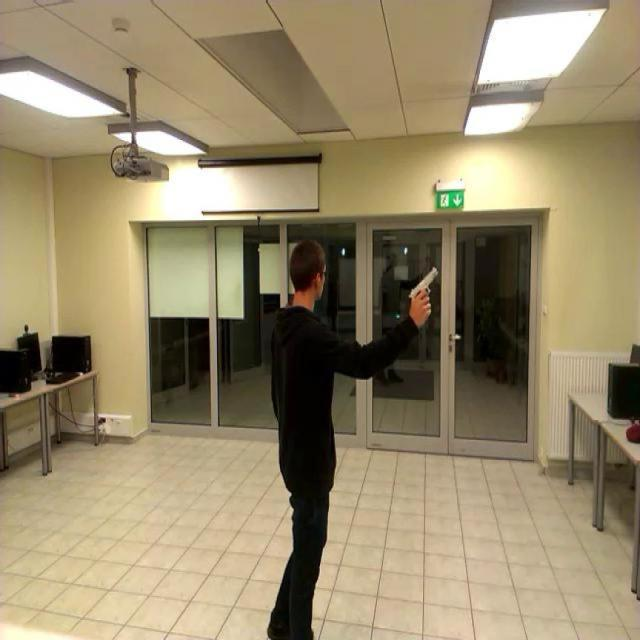pistol: (408, 266, 438, 310)
